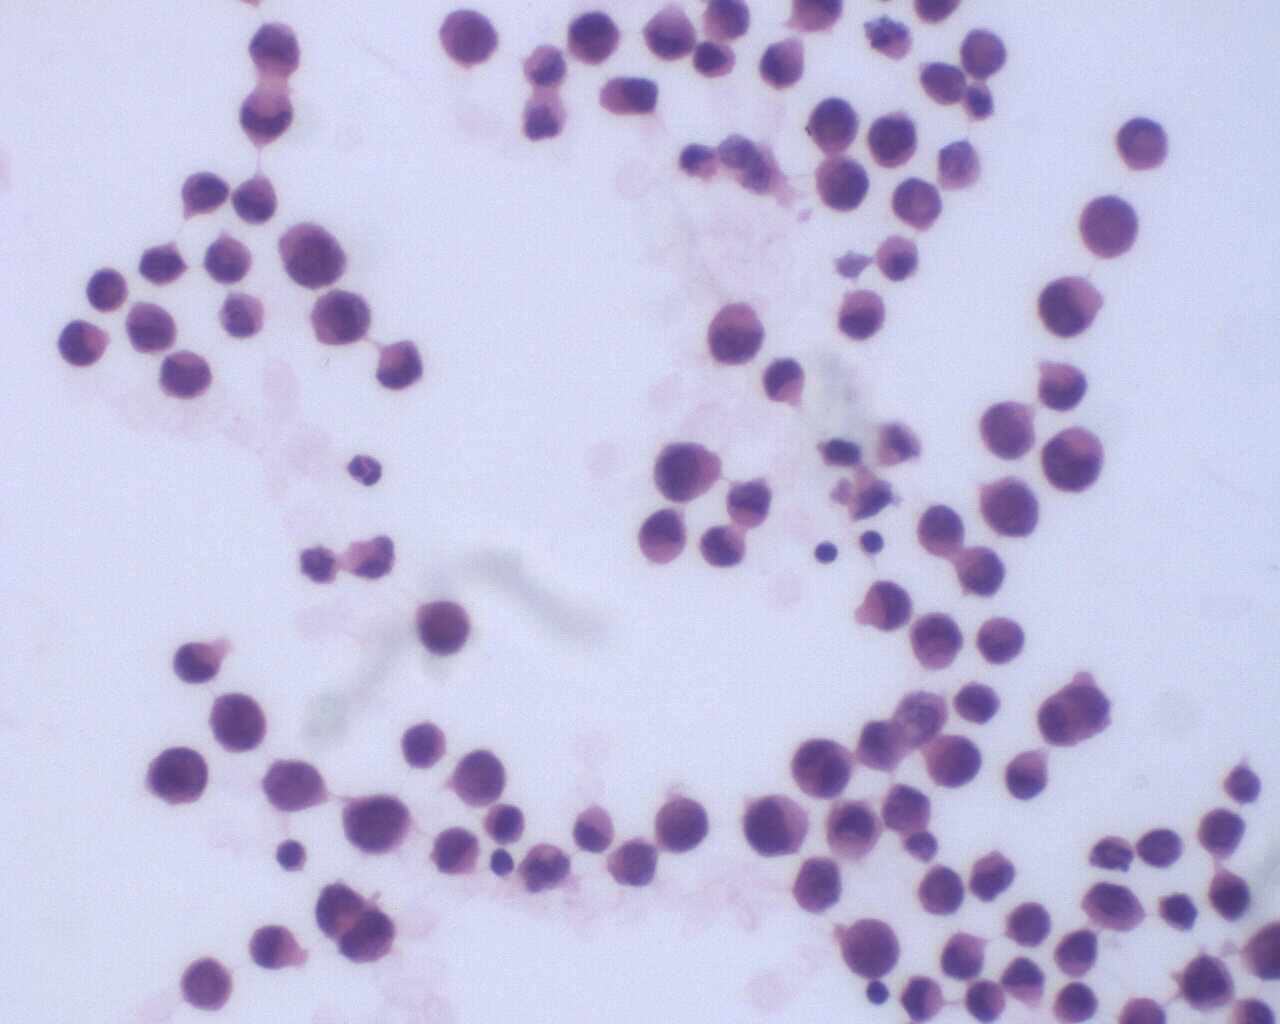ab: (338, 793, 415, 861), (199, 686, 274, 755), (1042, 420, 1109, 496), (257, 749, 332, 816), (279, 219, 349, 290), (654, 436, 726, 505), (976, 399, 1046, 469), (1038, 270, 1106, 339), (744, 788, 810, 858), (1079, 194, 1144, 265), (411, 595, 478, 662), (144, 743, 212, 809), (839, 912, 904, 981), (704, 298, 769, 366), (977, 474, 1043, 540), (309, 288, 374, 352), (438, 4, 501, 68), (811, 154, 871, 218), (599, 834, 661, 894), (924, 731, 983, 794), (117, 298, 182, 355), (1081, 878, 1147, 934), (1183, 950, 1241, 1013), (561, 6, 621, 67), (806, 93, 864, 155), (1114, 114, 1172, 174), (866, 108, 922, 171), (793, 855, 848, 918), (654, 794, 711, 856), (910, 608, 965, 670), (451, 747, 507, 808), (179, 955, 235, 1013), (159, 348, 216, 403), (889, 173, 944, 232), (974, 612, 1028, 669), (956, 26, 1014, 79), (1204, 863, 1255, 923), (915, 863, 969, 920), (918, 52, 970, 111), (957, 544, 1009, 601), (1196, 805, 1249, 858), (429, 821, 483, 874), (180, 168, 231, 223), (205, 232, 254, 288)
lymph: (274, 837, 309, 874), (863, 977, 892, 1007), (814, 536, 840, 568)
neutro: (346, 450, 385, 487)
